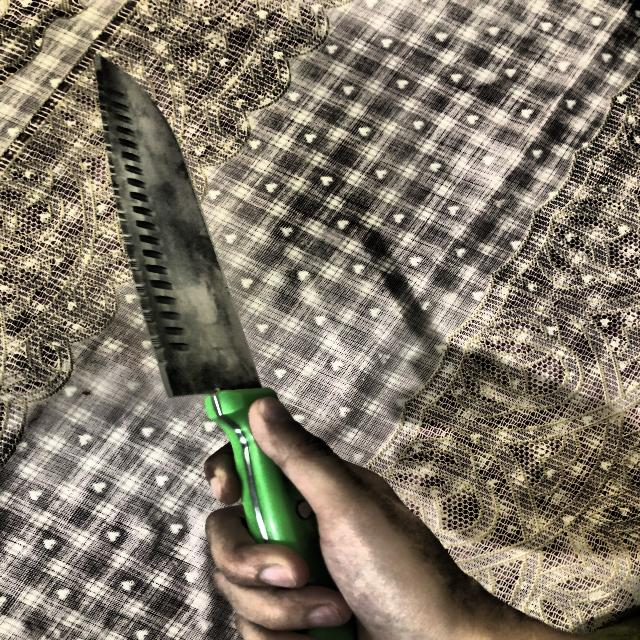knife: (91, 54, 357, 640)
